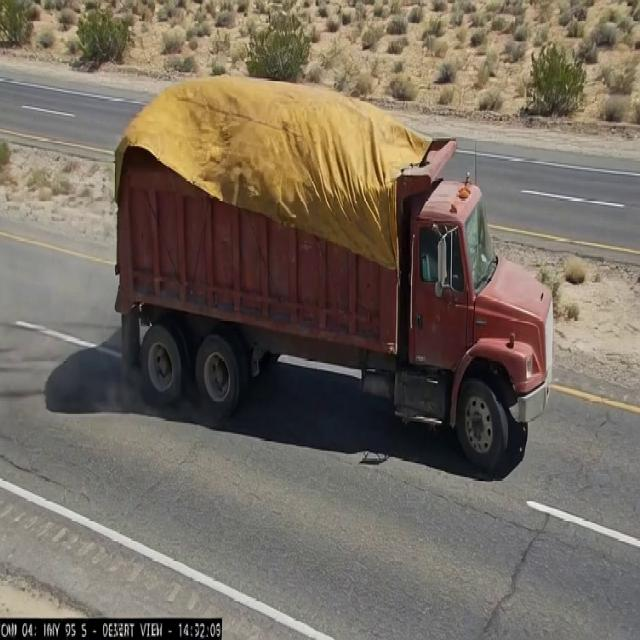trailer: (111, 101, 461, 198)
truck: (106, 64, 556, 460)
